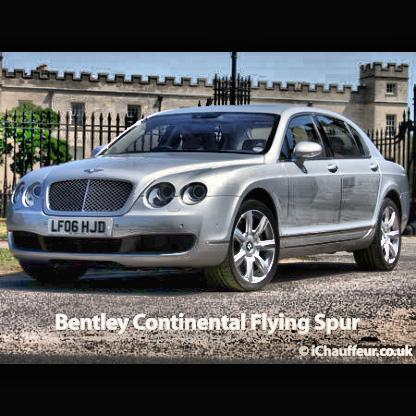Bentley Continental Flying Spur Sedan 2007: (6, 101, 414, 295)
